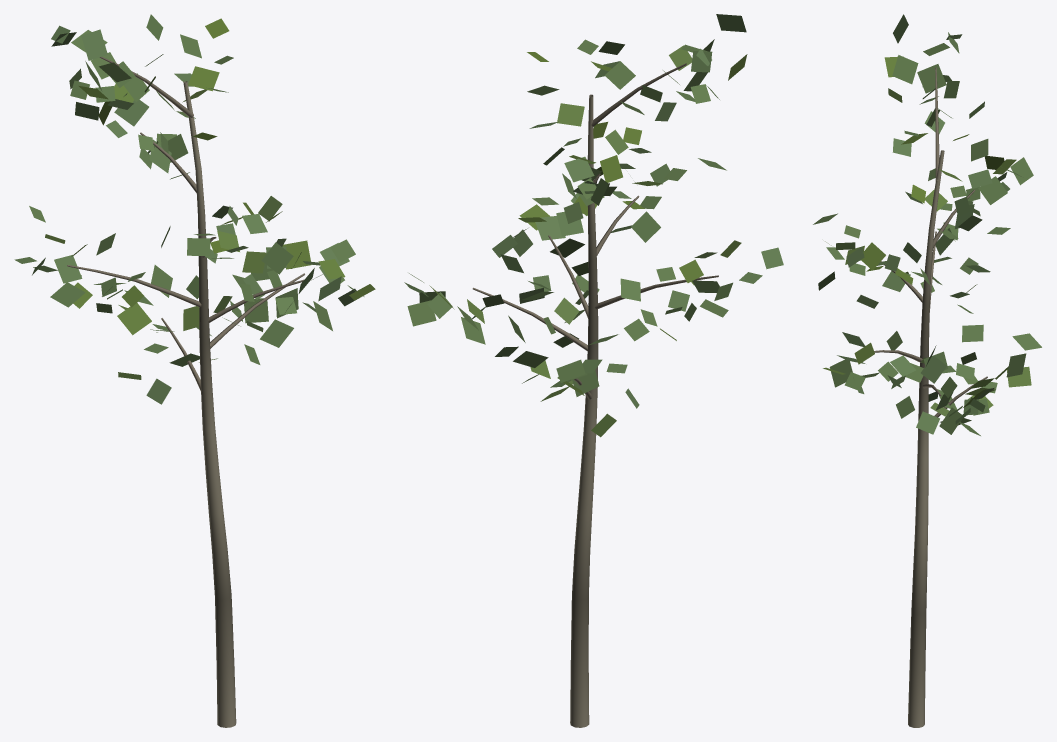
File: sapling_c.glb
3 views of the same model, side by side, from view 1: azimuth 30°, elevation 25°; view 2: azimuth 150°, elevation 25°; view 3: azimuth 270°, elevation 25° (orthographic). The views are drawn at different scales.
Visible parts, largest first — view 1: sapling_c; view 2: sapling_c; view 3: sapling_c.
Part boxes in pixels (x1,y1,x2,y2): sapling_c: (14, 14, 375, 727); sapling_c: (404, 14, 783, 727); sapling_c: (813, 14, 1041, 727).
Size of the model in its own units: 2.56 by 5.16 by 1.67.
